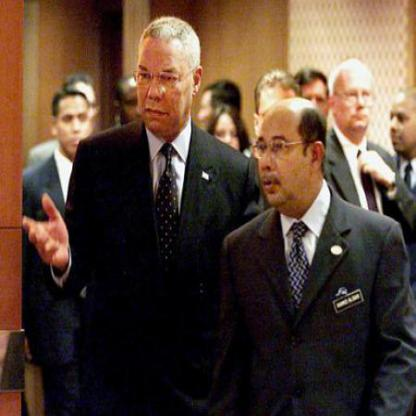face: (134, 21, 196, 137), (253, 105, 314, 208), (335, 63, 375, 135), (56, 91, 92, 155), (297, 73, 331, 132), (196, 89, 222, 142), (215, 111, 242, 159)
